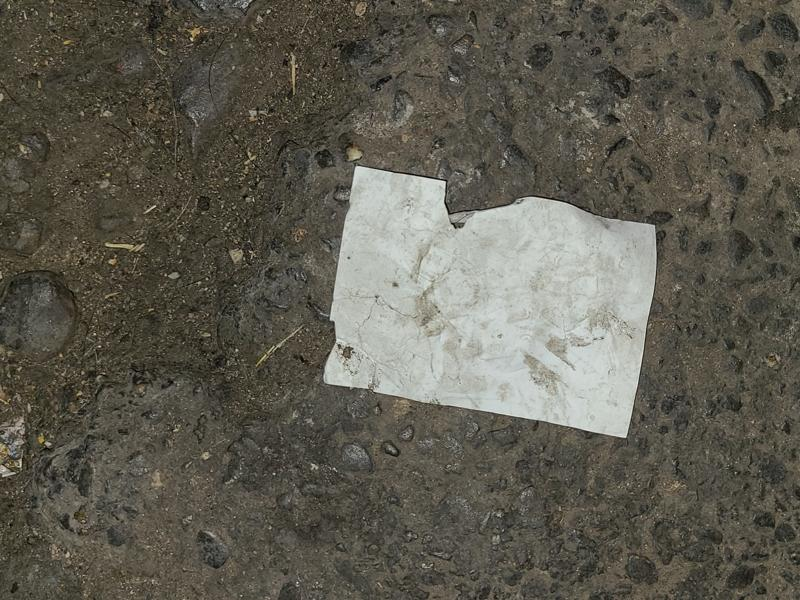papel: (321, 166, 657, 441)
